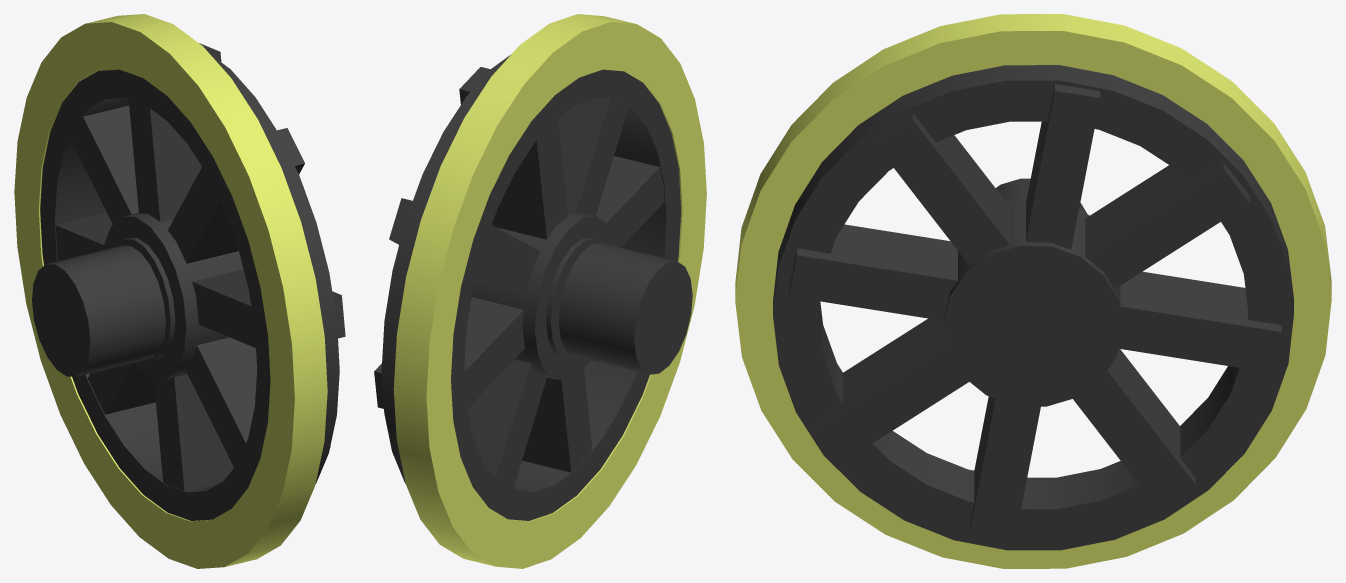
The model's file is Loc_r4.fbx.
3 views of the same model, side by side, from view 1: azimuth 30°, elevation 25°; view 2: azimuth 150°, elevation 25°; view 3: azimuth 270°, elevation 25° (orthographic). The views are drawn at different scales.
Parts seen in each view (by area): view 1: Tube008; view 2: Tube008; view 3: Tube008.
Boxes of the visible parts, x1,y1,x2,y2 form: Tube008: [14, 14, 345, 568]; Tube008: [374, 14, 706, 568]; Tube008: [735, 14, 1331, 568].
Bounding box in the file's own units: 228 × 619 × 622.
